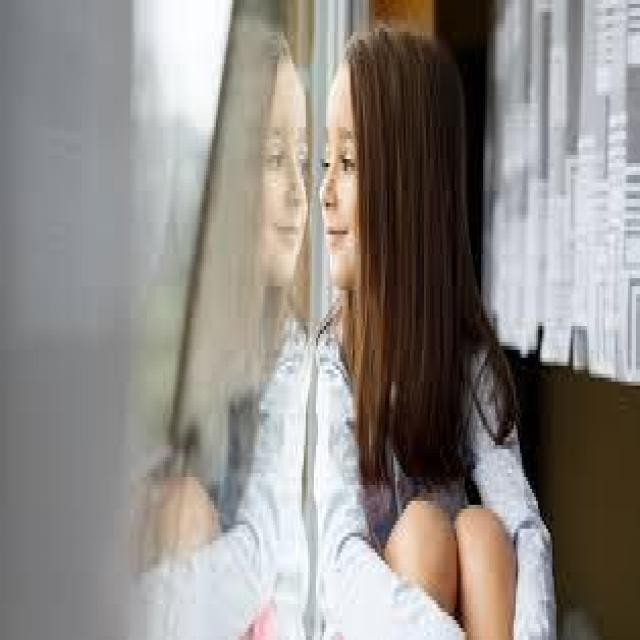person: (298, 24, 542, 632), (226, 16, 312, 521)
